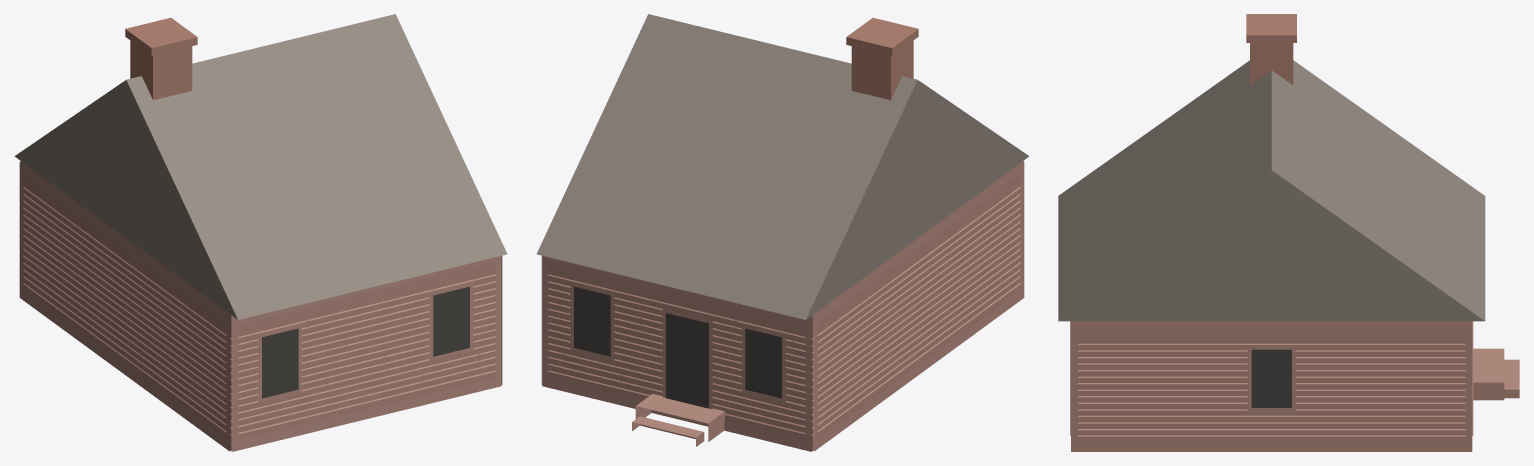
File: recon_1835_south_d4_025__inferred_1835.glb
The picture shows the model from 3 angles, left to right: view 1: azimuth 30°, elevation 25°; view 2: azimuth 150°, elevation 25°; view 3: azimuth 270°, elevation 25°; orthographic projection. The views are drawn at different scales.
Parts seen in each view (by area): view 1: recon_1835_south_d4_025__inferred_1835; view 2: recon_1835_south_d4_025__inferred_1835; view 3: recon_1835_south_d4_025__inferred_1835.
Part boxes in pixels (left/top/right/bottom): recon_1835_south_d4_025__inferred_1835: left=14, top=14, right=507, bottom=451; recon_1835_south_d4_025__inferred_1835: left=536, top=14, right=1029, bottom=451; recon_1835_south_d4_025__inferred_1835: left=1058, top=14, right=1519, bottom=451.
Bounding box in the file's own units: 5.83 × 6.79 × 8.95.
